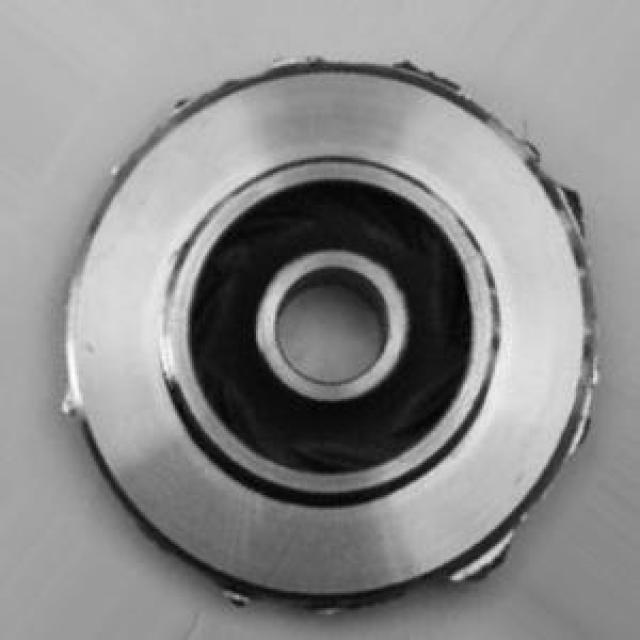Defect: (387, 48, 472, 103)
